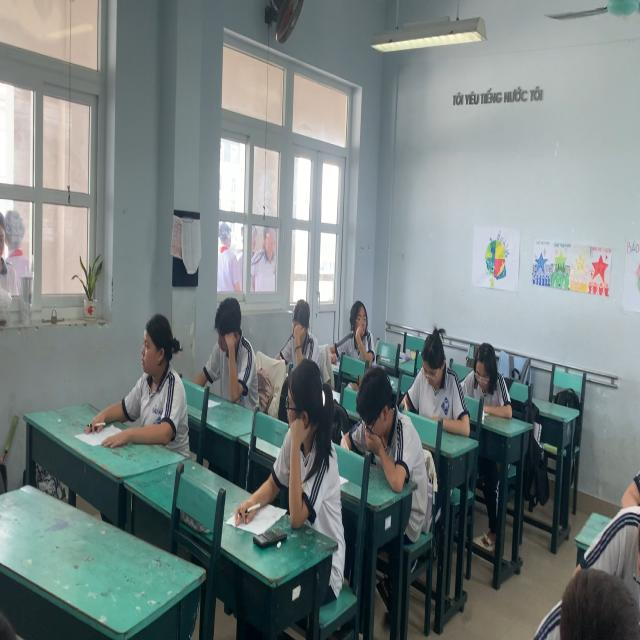cheating: (268, 351, 340, 524), (330, 302, 384, 368)
not_cheating: (348, 357, 418, 492), (202, 292, 262, 433), (408, 312, 468, 450), (117, 309, 178, 434), (464, 347, 516, 409), (288, 309, 318, 361)
